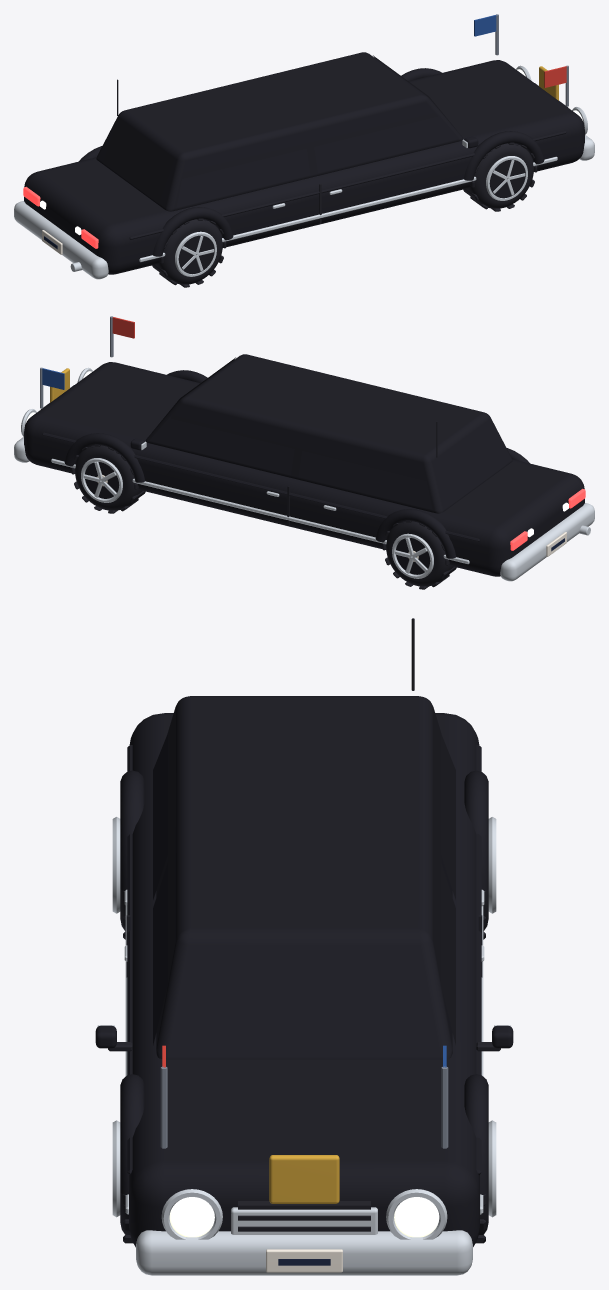
File: mayor_limo.glb
3 renders of one model, top to bottom at view 1: azimuth 30°, elevation 25°; view 2: azimuth 150°, elevation 25°; view 3: azimuth 270°, elevation 25°, orthographic. The views are drawn at different scales.
Parts seen in each view (by area): view 1: mayor_limo; view 2: mayor_limo; view 3: mayor_limo.
Part boxes in pixels (x1,y1,x2,y2): mayor_limo: (14,14,594,287); mayor_limo: (14,316,594,589); mayor_limo: (95,618,513,1275).
Bounding box in the file's own units: 6.74 × 1.94 × 2.38.
1 material, 1 textured.
